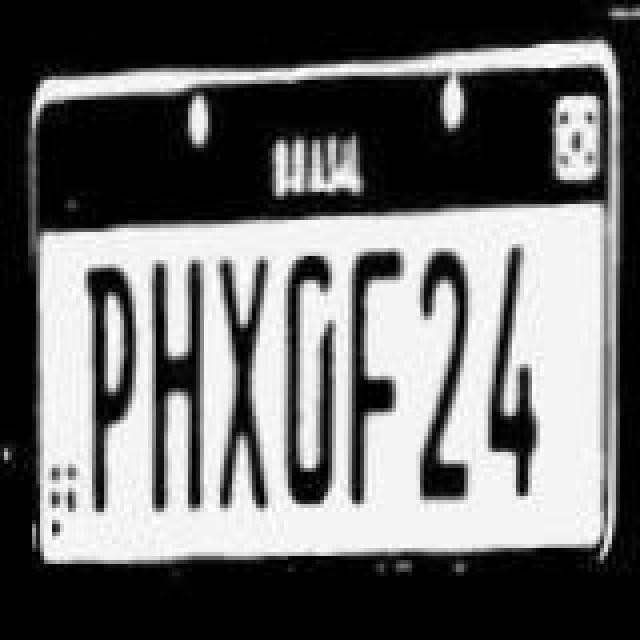2: (410, 242, 478, 510)
4: (482, 240, 550, 508)
D: (280, 248, 344, 512)
F: (346, 246, 406, 514)
H: (142, 258, 210, 518)
P: (68, 264, 140, 516)
X: (208, 252, 280, 516)
